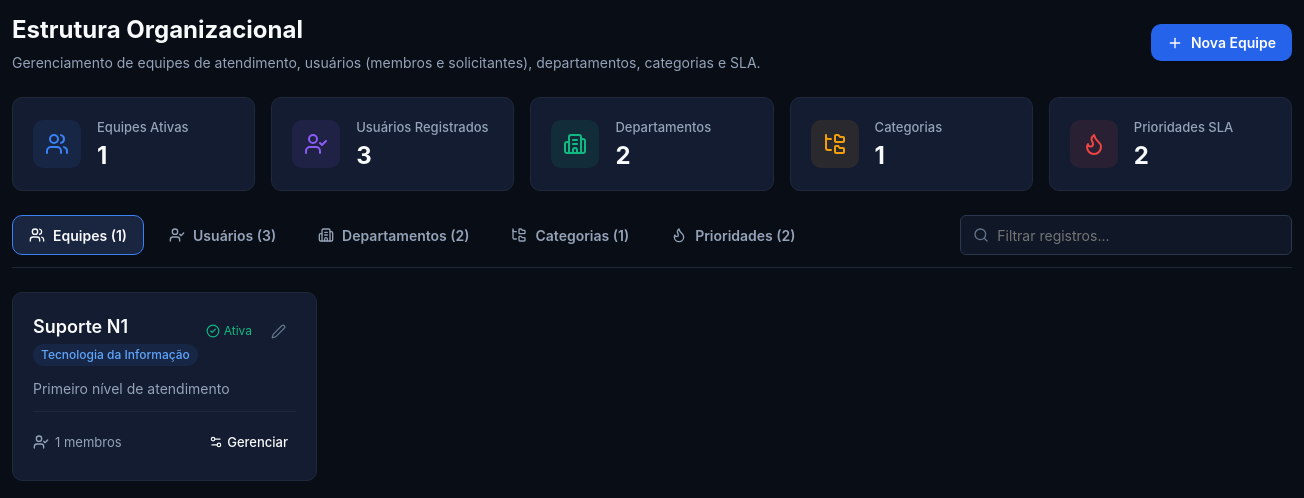
Scenario: TeamsPage Component › switches to departments tab and displays departments list
The width and height of the screenshot is (1304, 498).
What coordinates should you click on to do the following:
click the button "Departamentos (2)"
I would click on:
 (394, 235)
Its box is [301,215,486,255].
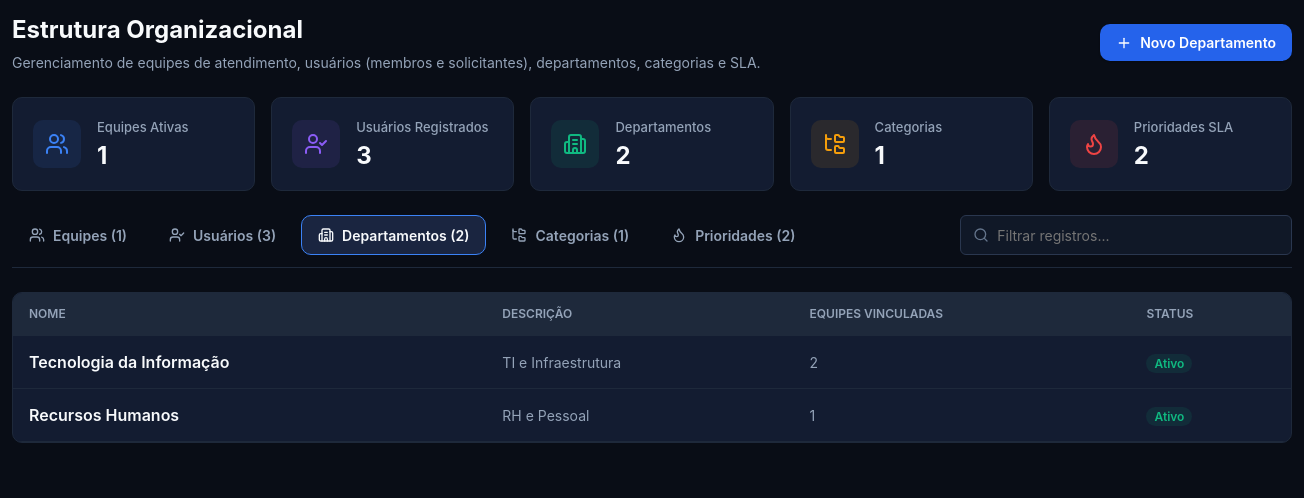
Check: the text "Tecnologia da Informação" is shown, box [13,336,486,389]
Check: the text "Recursos Humanos" is shown, box [13,389,486,442]
